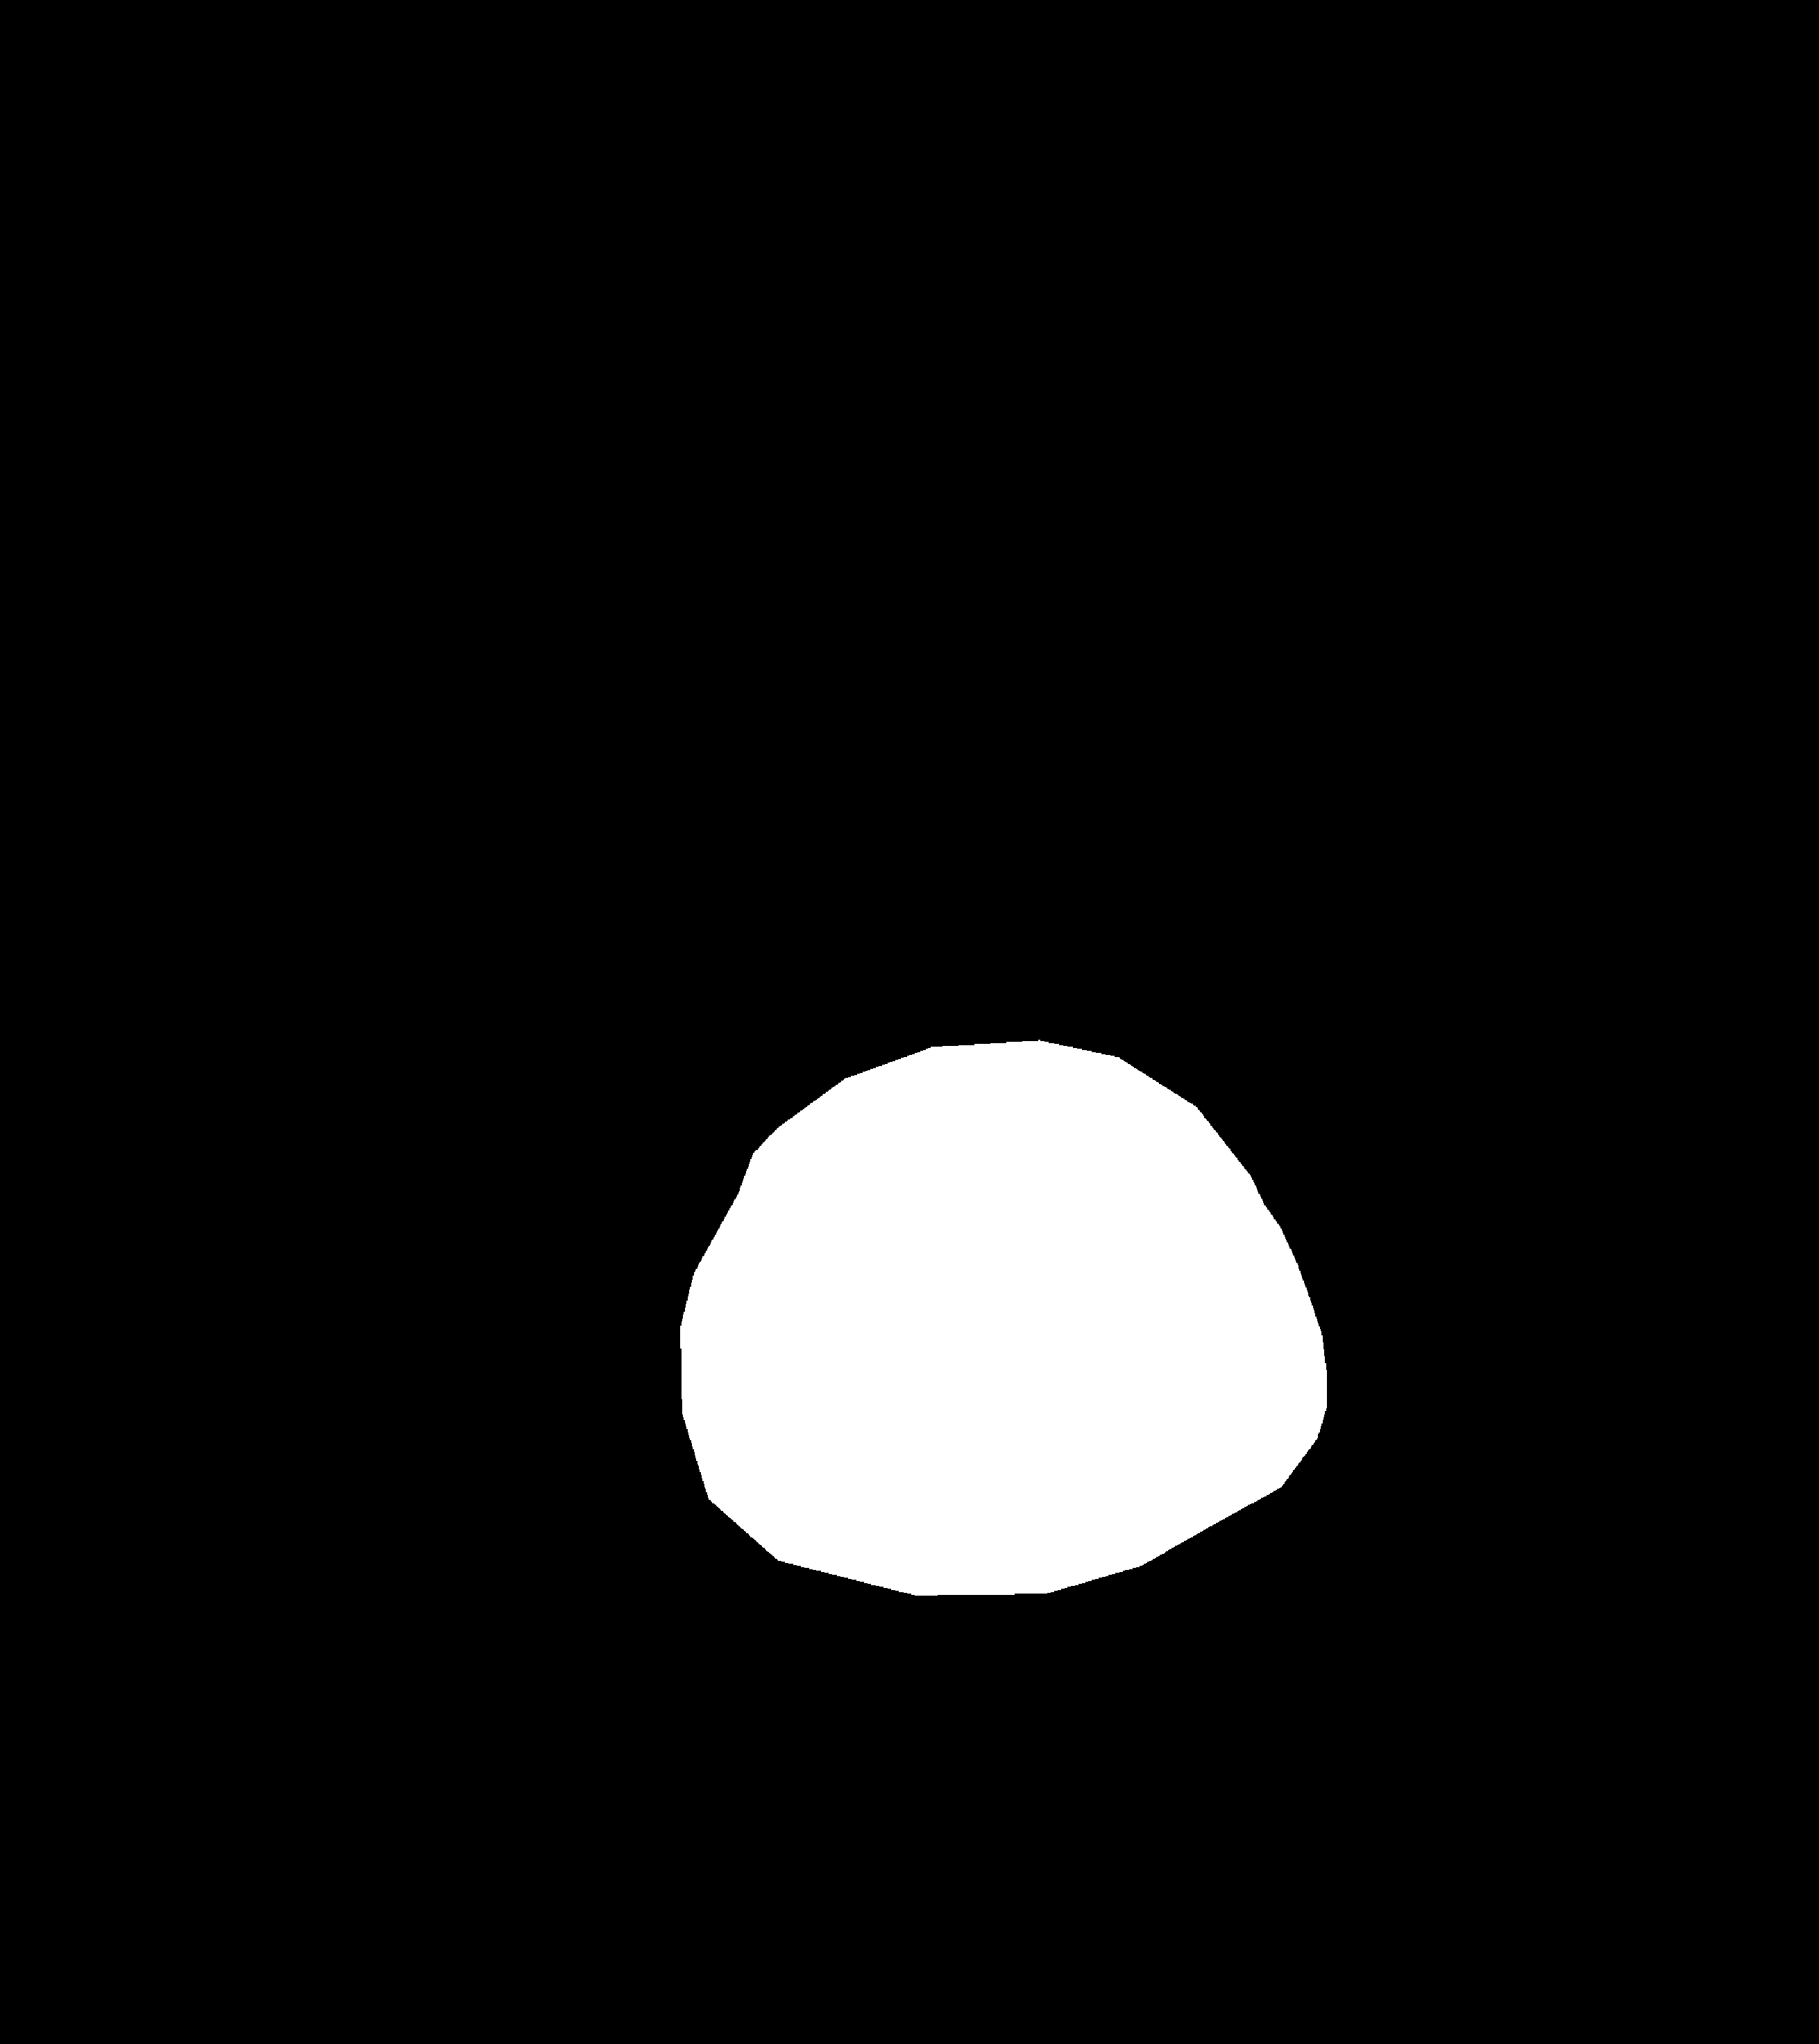heart: (683, 1115, 1324, 1544)
left_lung: (239, 297, 859, 1586)
right_lung: (1003, 314, 1591, 1603)
